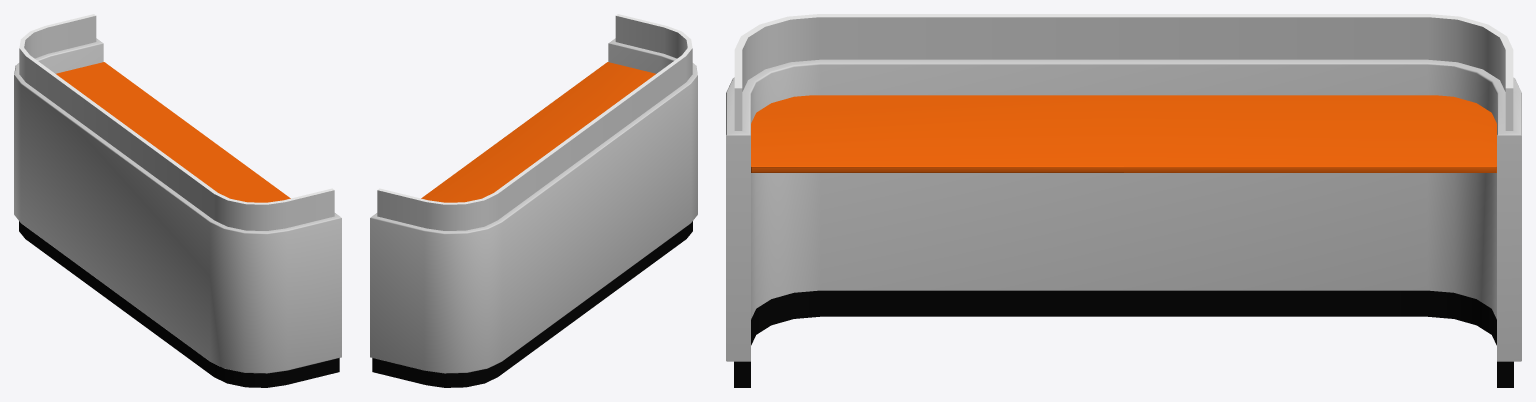
The model's file is desk_1_long.glb.
The picture shows the model from 3 angles, left to right: view 1: azimuth 30°, elevation 25°; view 2: azimuth 150°, elevation 25°; view 3: azimuth 270°, elevation 25°; orthographic projection. The views are drawn at different scales.
Visible parts, largest first — view 1: Office Paritions Desk; view 2: Office Paritions Desk; view 3: Office Paritions Desk.
Boxes of the visible parts, <box> form: Office Paritions Desk: <box>14,14,341,387</box>; Office Paritions Desk: <box>370,14,697,387</box>; Office Paritions Desk: <box>726,14,1521,387</box>.
Size of the model in its own units: 0.6396 by 1.07 by 2.6.
